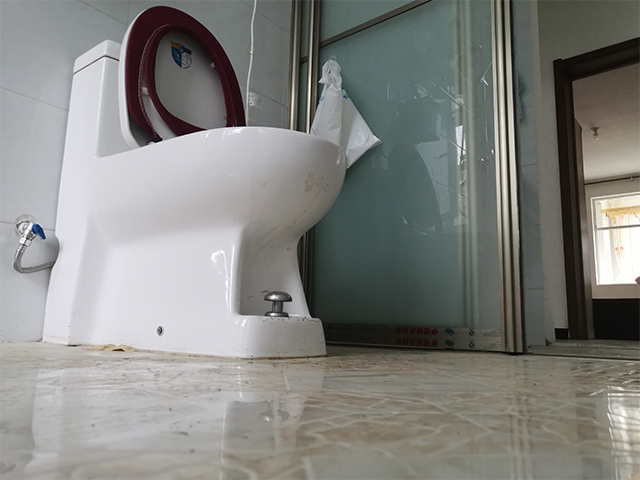closestool: (38, 3, 349, 362)
